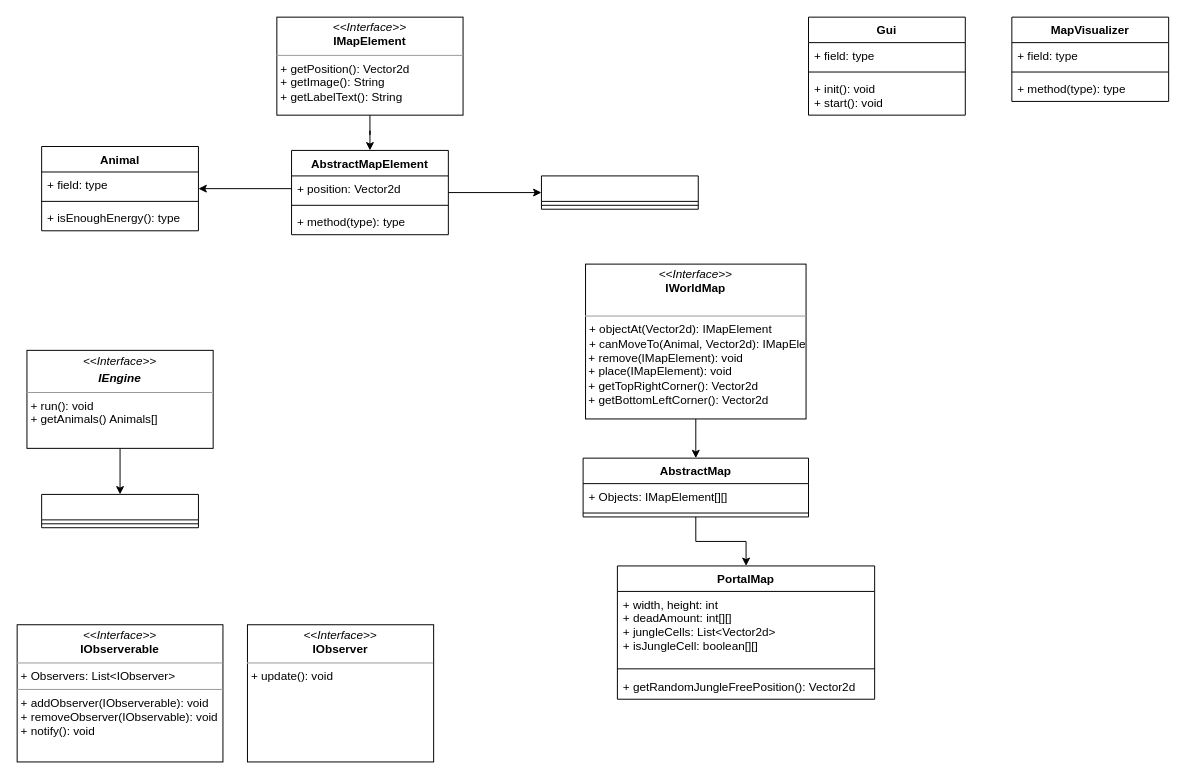
This 1186x779 diagram has some shape labels left out. The centre of each missing label's shape, as x and y in pixels:
Grass: point (619, 192)
SimulationEngine: point (119, 510)
